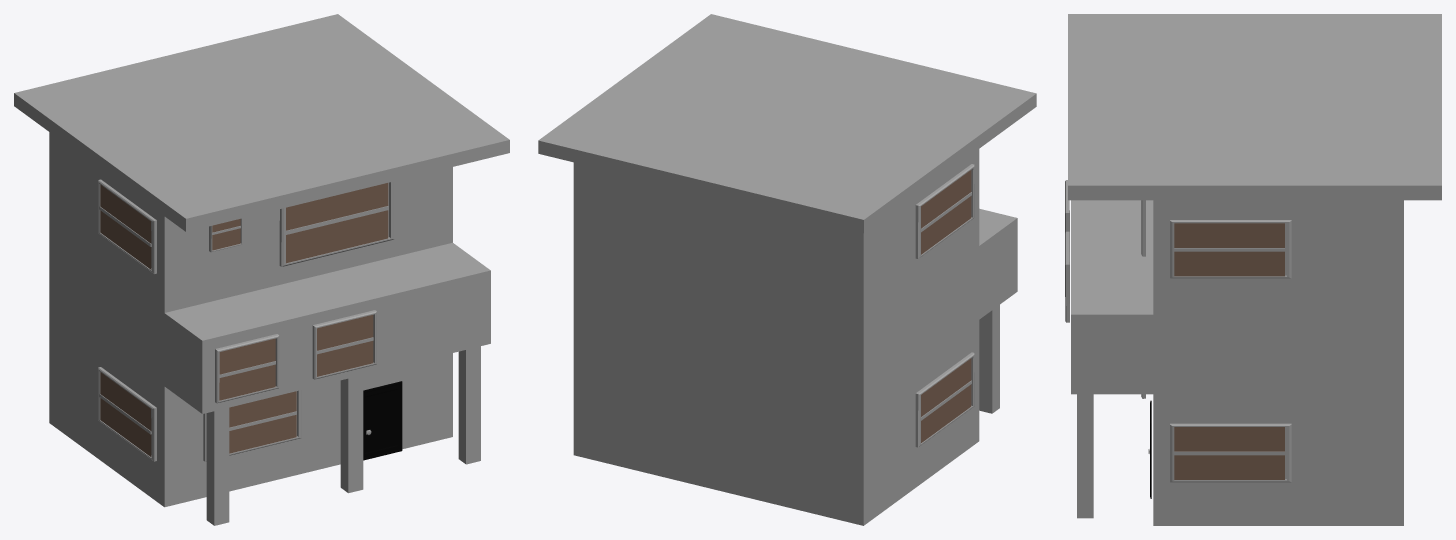
The model's file is Building3.fbx.
The picture shows the model from 3 angles, left to right: view 1: azimuth 30°, elevation 25°; view 2: azimuth 150°, elevation 25°; view 3: azimuth 270°, elevation 25°; orthographic projection. The views are drawn at different scales.
Parts seen in each view (by area): view 1: pCube357, pCube352, pCube351, pCube353, polySurface756, polySurface753, polySurface755, polySurface754, polySurface758, polySurface760, pSphere41, pCube354 (+3 smaller); view 2: pCube357, pCube351, pCube353, pCube352, polySurface758, polySurface760, pCube356; view 3: pCube357, pCube352, pCube351, pCube353, polySurface759, polySurface761, pCube355, polySurface755.
Part boxes in pixels (x1,y1,x2,y2): pCube357: (14,14,509,231); pCube352: (49,229,490,413); pCube351: (49,300,452,507); pCube353: (49,132,452,313); polySurface756: (279,181,394,266); polySurface753: (203,390,301,461); polySurface755: (312,310,376,379); polySurface754: (215,334,279,403); polySurface758: (98,367,156,461); polySurface760: (98,179,156,273); pSphere41: (363,381,402,460); pCube354: (340,375,363,493); pCube357: (538,14,1036,232); pCube351: (573,318,979,525); pCube353: (573,149,979,331); pCube352: (573,208,1017,402); polySurface758: (915,352,974,447); polySurface760: (915,164,974,258); pCube356: (979,305,999,413); pCube357: (1068,14,1441,200); pCube352: (1071,200,1403,394); pCube351: (1153,393,1403,525); pCube353: (1153,200,1403,315); polySurface759: (1170,423,1291,482); polySurface761: (1170,220,1291,278); pCube355: (1077,394,1093,518); polySurface755: (1065,231,1069,322).
Bounding box in the file's own units: 339 × 322 × 315.
